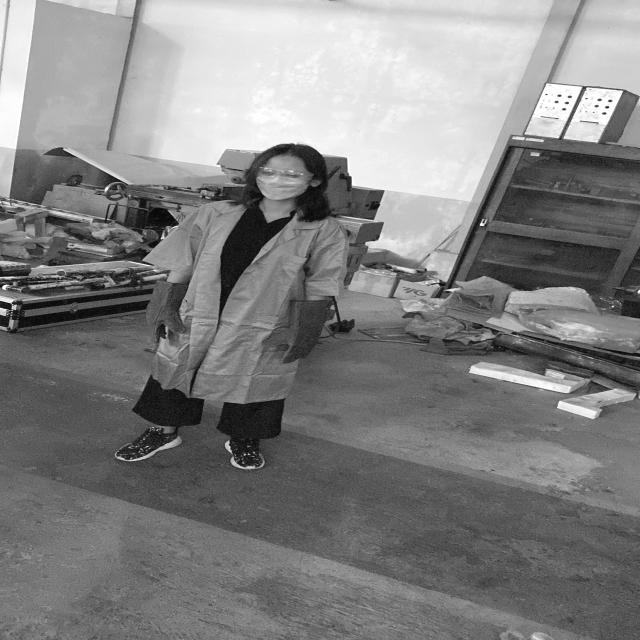face_mask: (254, 165, 310, 197)
glasses: (254, 164, 316, 181)
hand_glove: (134, 299, 188, 346), (262, 323, 322, 362)
head_nohelmet: (252, 139, 320, 166)
person: (106, 135, 368, 480)
shoes: (109, 422, 188, 463), (212, 430, 274, 473)
